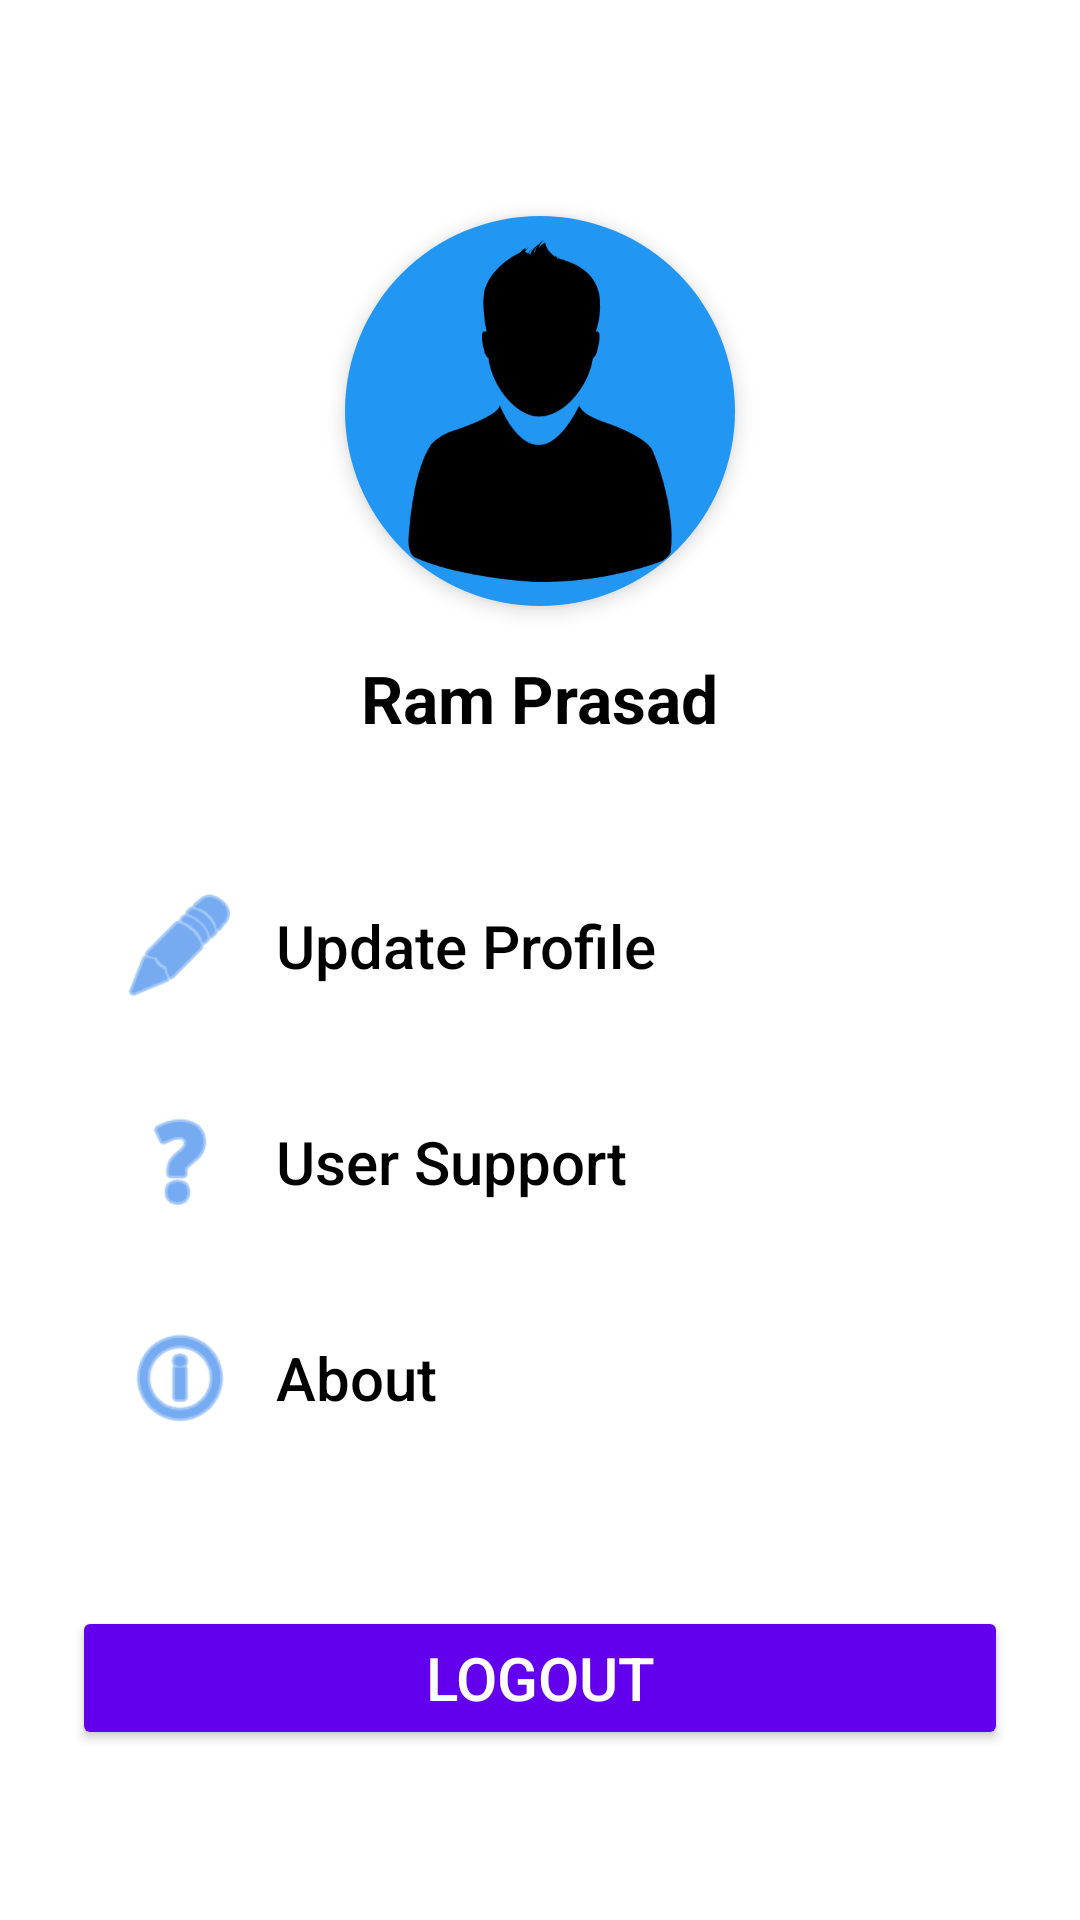

Icons on this 1080x1920 Android screen, each with the point to tap as point (x, y):
edit: point (179, 945)
help: point (180, 1162)
info details: point (180, 1378)
